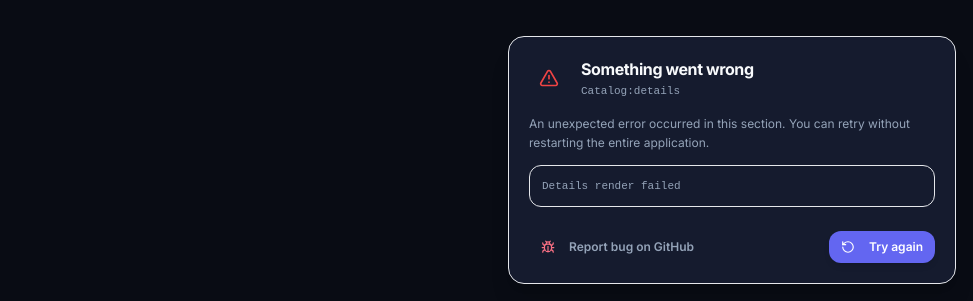
Scenario: ErrorBoundary › catches render error, displays localized fallback, and resets on retry
The width and height of the screenshot is (973, 301).
Expected: the message is shown, [508,36,956,284]
Expected: the heading "Something went wrong" is shown, [581,57,754,81]
What coordinates should you click on to do the following:
click the button "Try again"
I would click on:
 (882, 247)
Its box is [829,231,935,263].
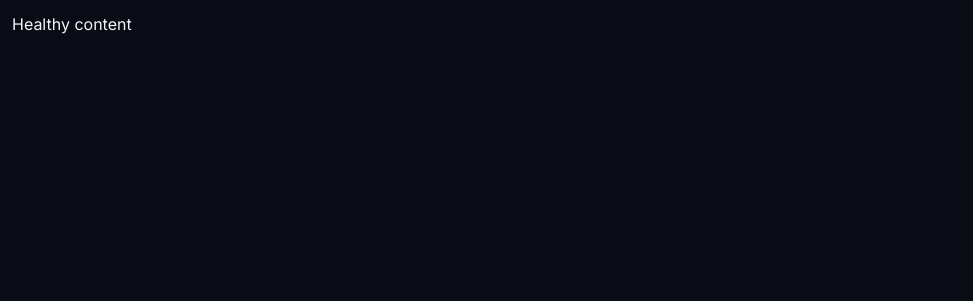
Now the text "Healthy content" is shown, box [12,14,132,34]
